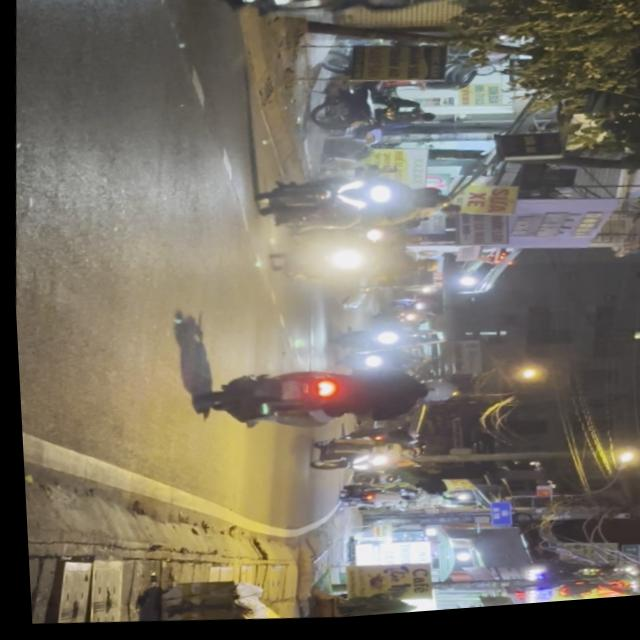helmet: (415, 383, 453, 409)
licenseplate: (188, 353, 458, 447), (182, 0, 495, 45)
nohelmet: (277, 380, 304, 406)
